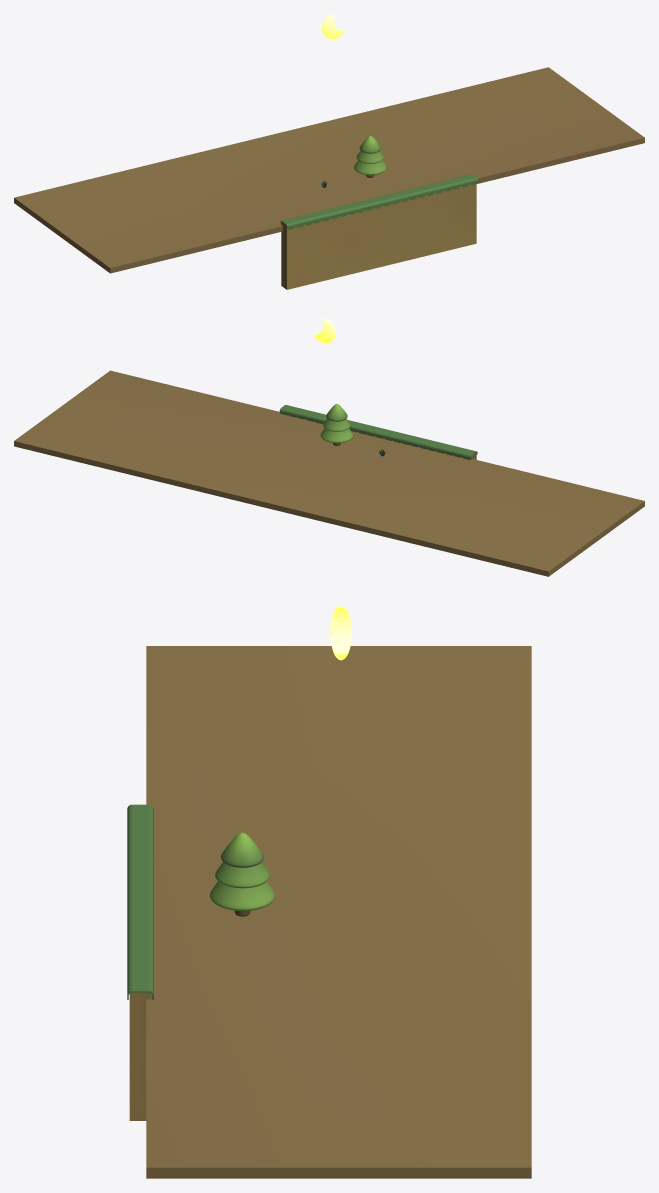
Rendered from environment.fbx.
3 renders of one model, top to bottom at view 1: azimuth 30°, elevation 25°; view 2: azimuth 150°, elevation 25°; view 3: azimuth 270°, elevation 25°, orthographic. The views are drawn at different scales.
Parts seen in each view (by area): view 1: Earth.003, Earth, Earth.002, Pine_Tree.087; view 2: Earth.003, Earth.002, Pine_Tree.087; view 3: Earth.003, Earth.002, Pine_Tree.087, Earth, Sphere.
Part boxes in pixels (bbox=[...]): Earth.003: bbox=[14, 67, 644, 273]; Earth: bbox=[281, 184, 476, 289]; Earth.002: bbox=[280, 174, 478, 229]; Pine_Tree.087: bbox=[354, 136, 386, 177]; Earth.003: bbox=[14, 370, 644, 576]; Earth.002: bbox=[279, 405, 477, 459]; Pine_Tree.087: bbox=[320, 404, 353, 445]; Earth.003: bbox=[146, 646, 531, 1178]; Earth.002: bbox=[127, 804, 153, 999]; Pine_Tree.087: bbox=[210, 832, 274, 916]; Earth: bbox=[129, 992, 151, 1120]; Sphere: bbox=[330, 605, 351, 660].
Bounding box in the file's own units: 6384 × 2428 × 2091.
